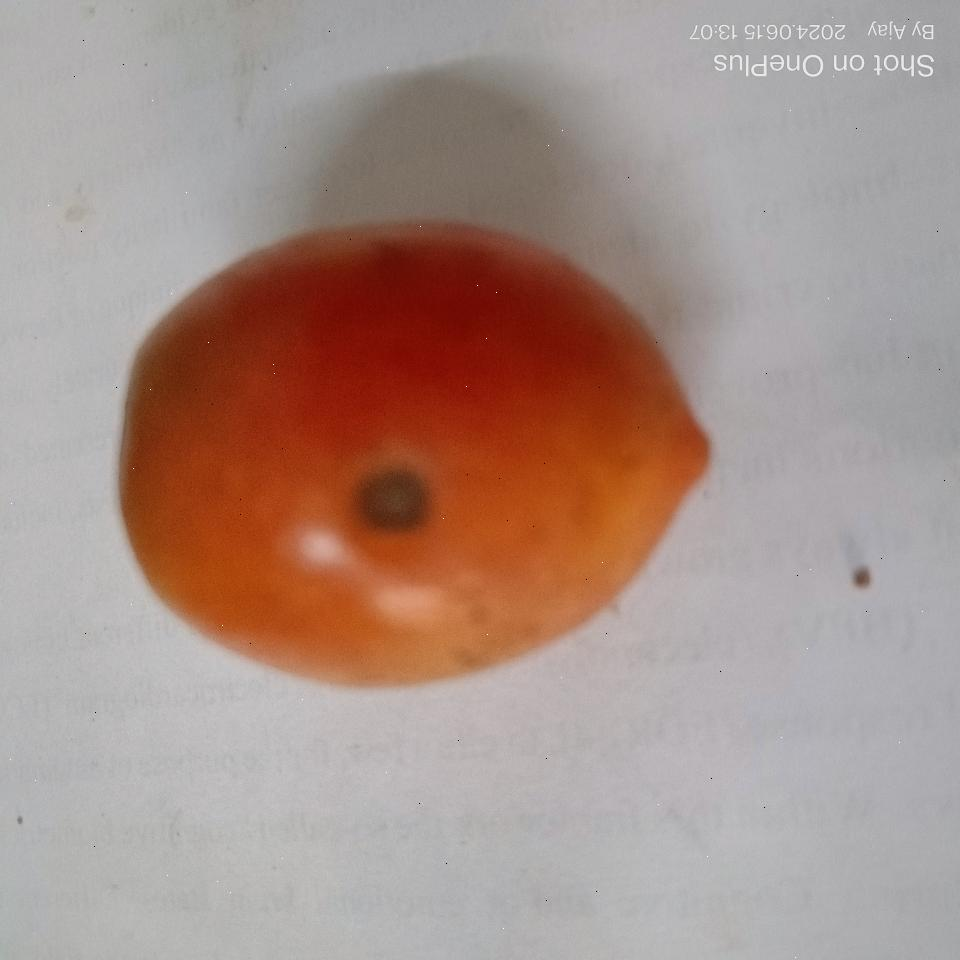Bacterial_Spot: (355, 466, 426, 538)
